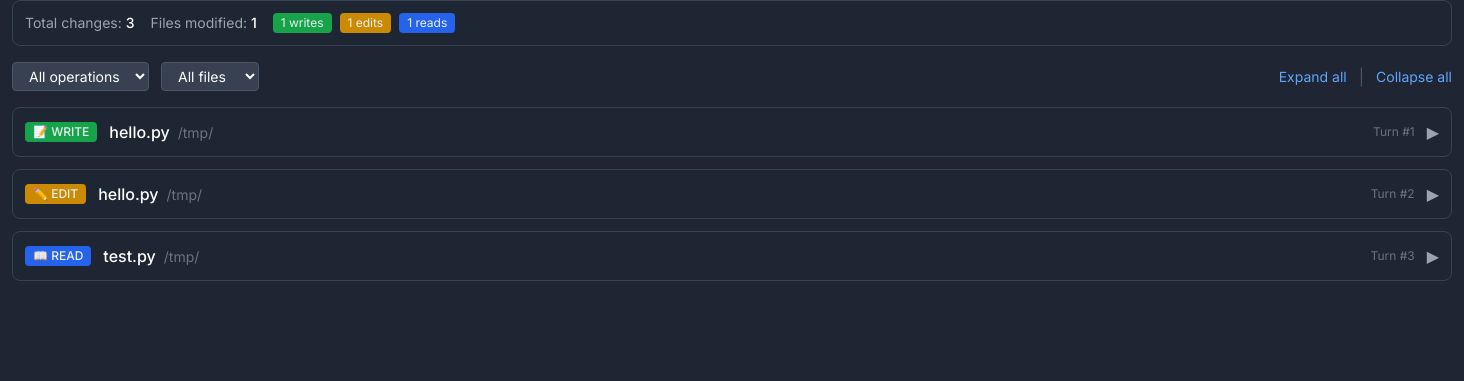
Test: CodeDiffViewer › expands card when clicked
Expected: the text "print(\"Hello, World!\")" is not shown
Click the button "📝 WRITE hello.py/tmp/ Turn #1 ▶" at (61, 132), box 13,108 -> 1451,156
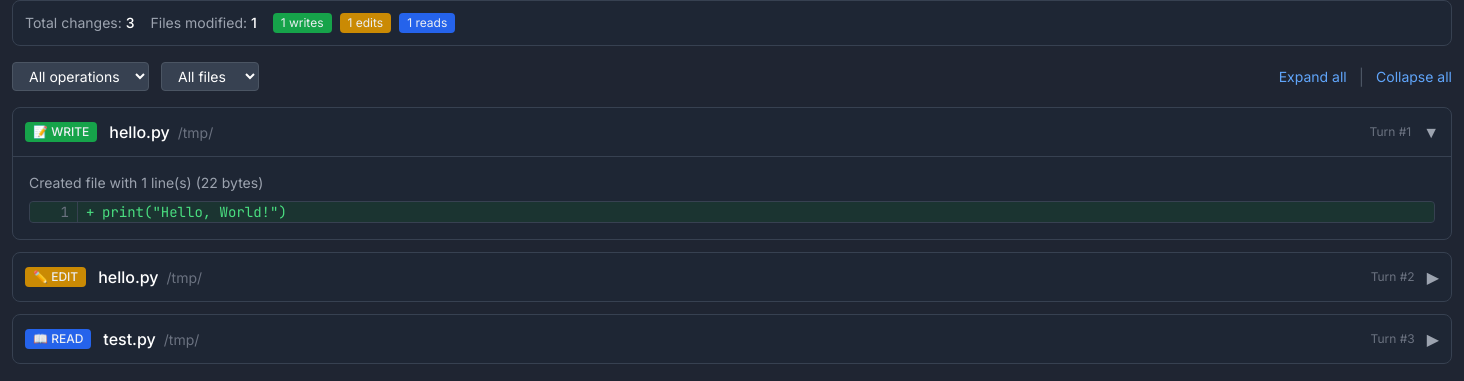
Expected: the text "print(\"Hello, World!\")" is shown, 102,203 -> 287,221
